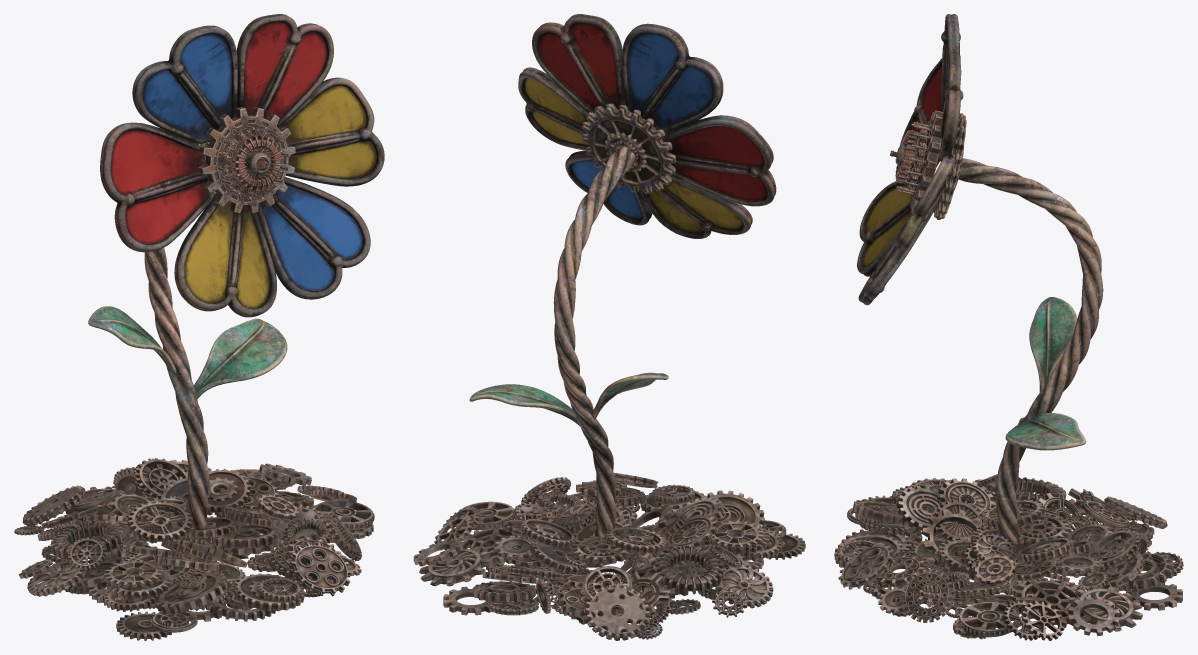
File: flower_base.glb
The picture shows the model from 3 angles, left to right: view 1: azimuth 30°, elevation 25°; view 2: azimuth 150°, elevation 25°; view 3: azimuth 270°, elevation 25°; orthographic projection. The views are drawn at different scales.
Parts seen in each view (by area): view 1: MyGeo; view 2: MyGeo; view 3: MyGeo.
Boxes of the visible parts, left/top/right/bottom form: MyGeo: left=14, top=14, right=384, bottom=640; MyGeo: left=413, top=14, right=805, bottom=640; MyGeo: left=834, top=14, right=1183, bottom=640.
Bounding box in the file's own units: 0.1717 × 0.2727 × 0.1609.
Materials: 4 (4 with a texture image).
